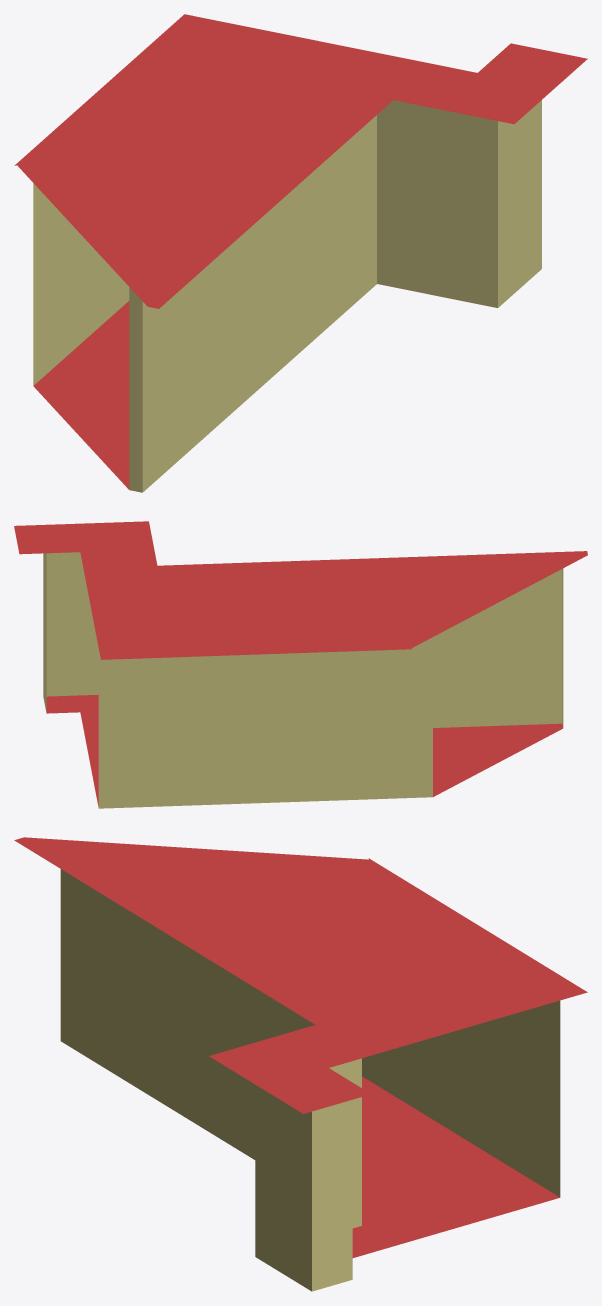
3 views of the same model, one above another, from view 1: azimuth 30°, elevation 25°; view 2: azimuth 150°, elevation 25°; view 3: azimuth 270°, elevation 25° (orthographic). The views are drawn at different scales.
Size of the model in its own units: 19.55 by 17.13 by 6.5.
